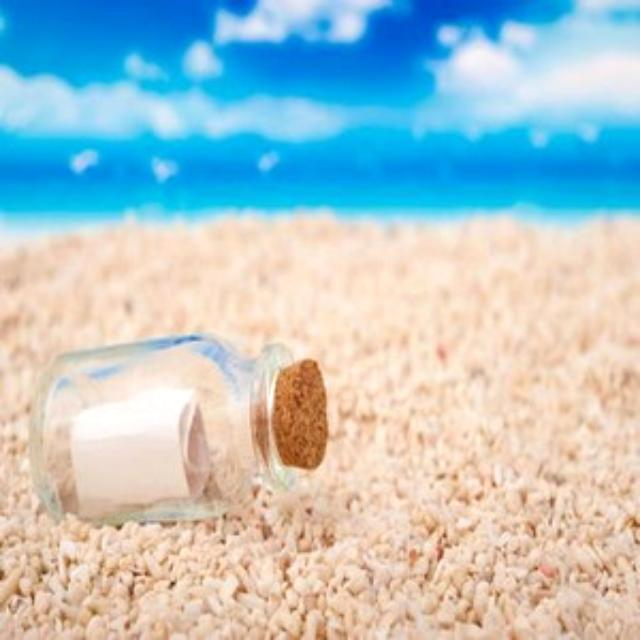Glass: (32, 340, 286, 518)
